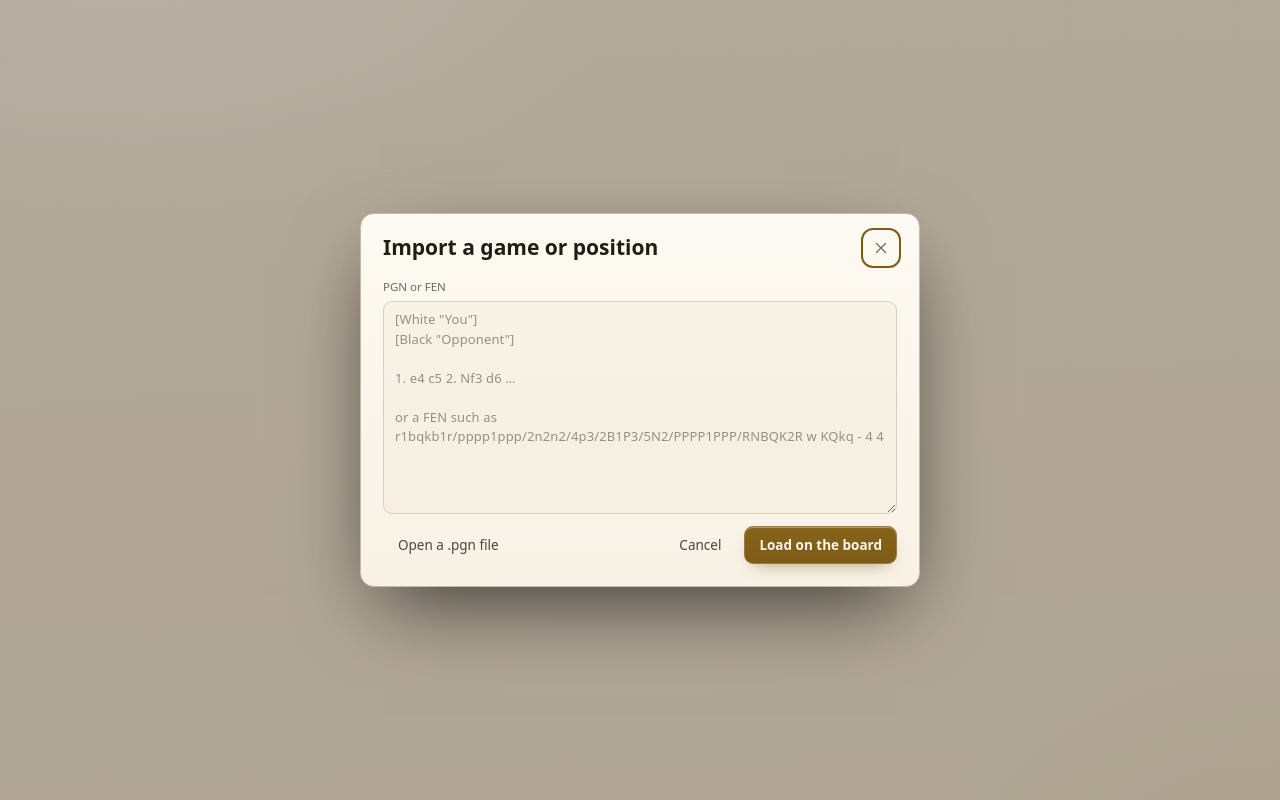
Test: ImportDialog › a PGN without moves is refused
Click the text box labelled "PGN or FEN" at (640, 408), box 383,301 -> 897,514
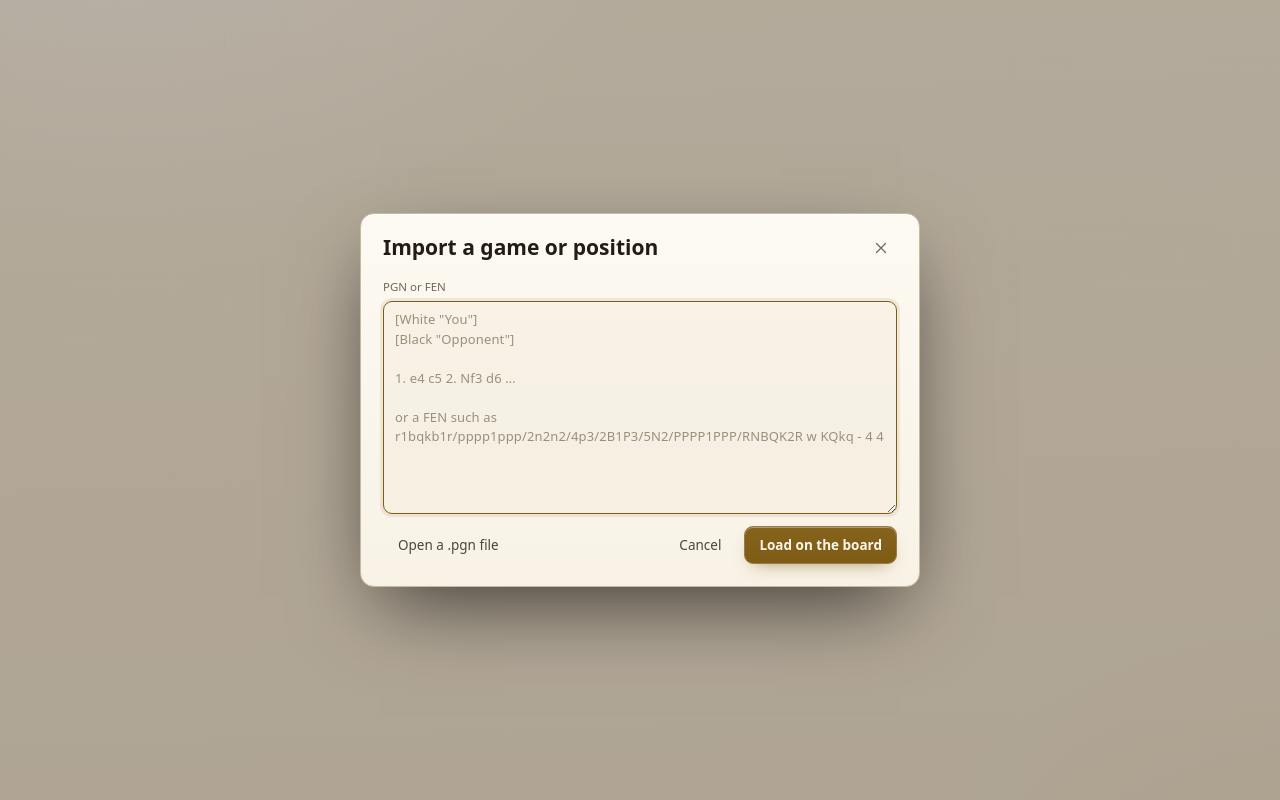
Type keys "[Event \"x\"]"
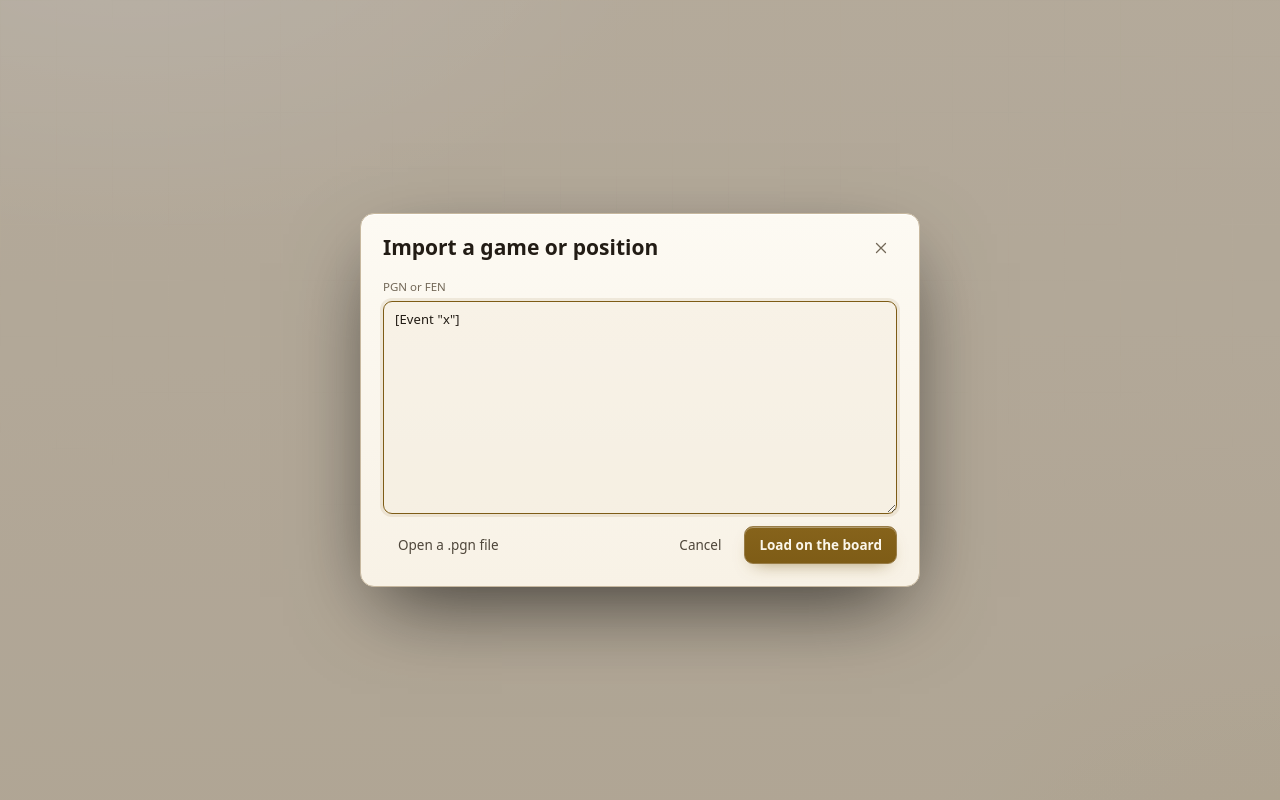
Click the button "Load on the board" at (821, 545), box 744,526 -> 897,564
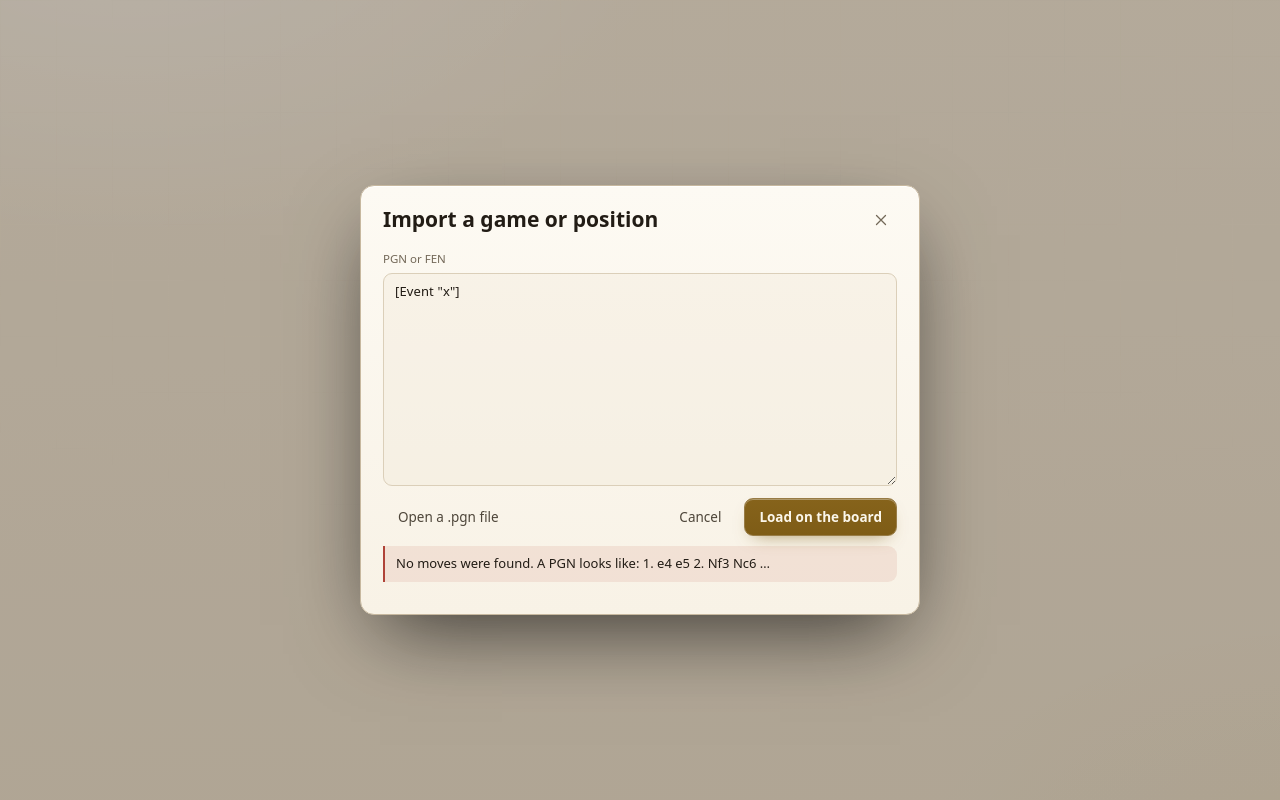
Expected: the message shows "No moves were found.", 396,554 -> 770,572
